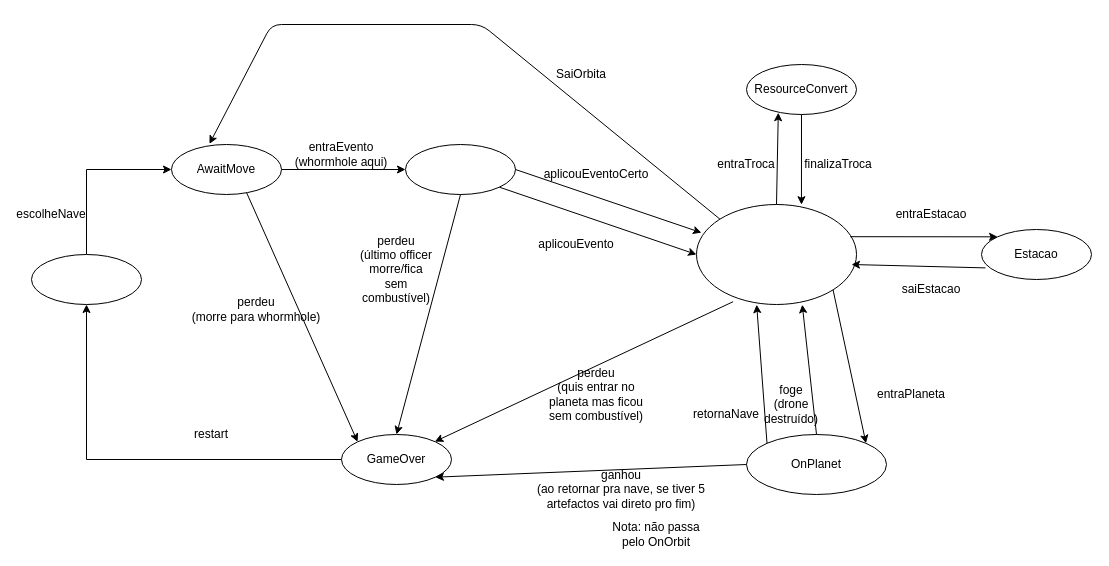
Some shapes in this 1109 by 566 pixel diagram are drawn without their labels. The shapes that lost their labels are listed below. From the top down, each one's box as (x1, y1, x2, y2) in pixels, then its label:
(404, 144, 516, 194): ApplyEvent
(696, 204, 856, 304): OnOrbit
(30, 254, 142, 304): AwaitShipSelect
